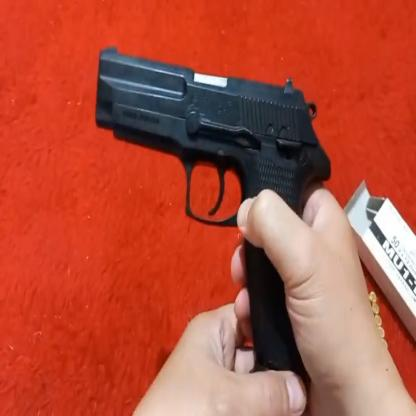handgun: (91, 39, 328, 380)
